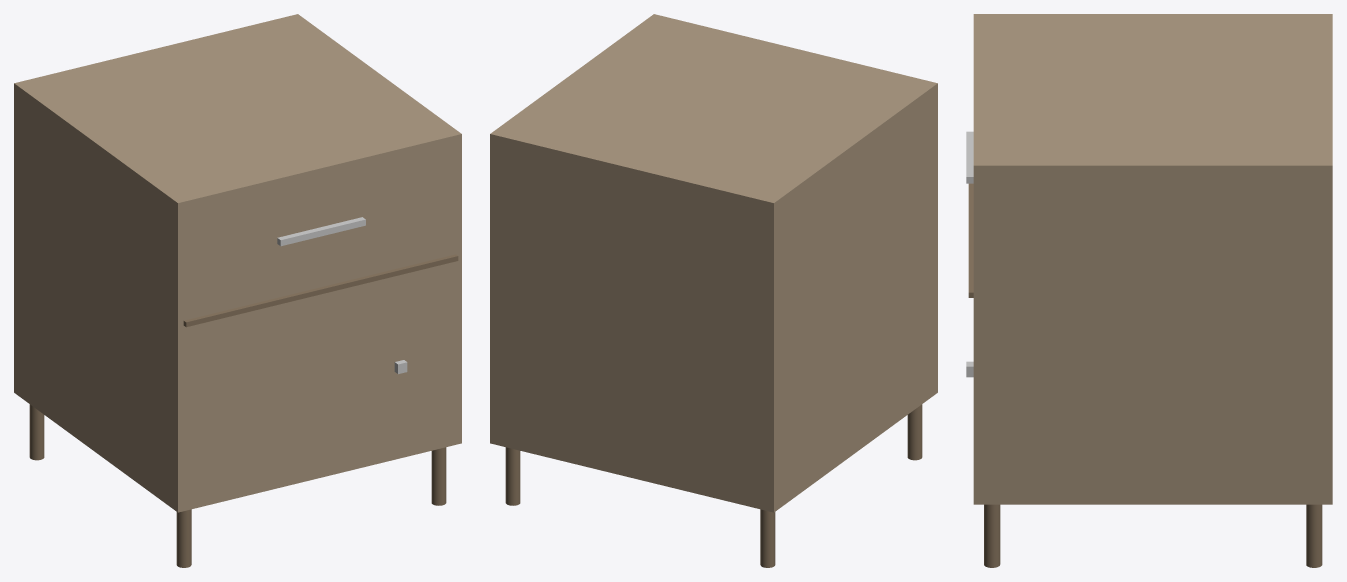
File: nightstand.glb
The picture shows the model from 3 angles, left to right: view 1: azimuth 30°, elevation 25°; view 2: azimuth 150°, elevation 25°; view 3: azimuth 270°, elevation 25°; orthographic projection. The views are drawn at different scales.
Parts seen in each view (by area): view 1: body, seam, leg0, leg1, drawer_pull, leg2; view 2: body, leg2, leg3, leg0; view 3: body, leg3, leg1, seam.
Boxes of the visible parts, x1,y1,x2,y2 form: body: (14, 14, 461, 512); seam: (183, 254, 458, 327); leg0: (176, 509, 191, 567); leg1: (431, 447, 446, 505); drawer_pull: (277, 217, 365, 246); leg2: (29, 404, 44, 460); body: (490, 14, 937, 512); leg2: (760, 509, 775, 567); leg3: (505, 447, 520, 505); leg0: (907, 404, 922, 460); body: (973, 14, 1332, 504); leg3: (1306, 504, 1322, 567); leg1: (984, 504, 1000, 567); seam: (968, 183, 973, 297).
Bounding box in the file's own units: 0.4877 × 0.6096 × 0.4977.
